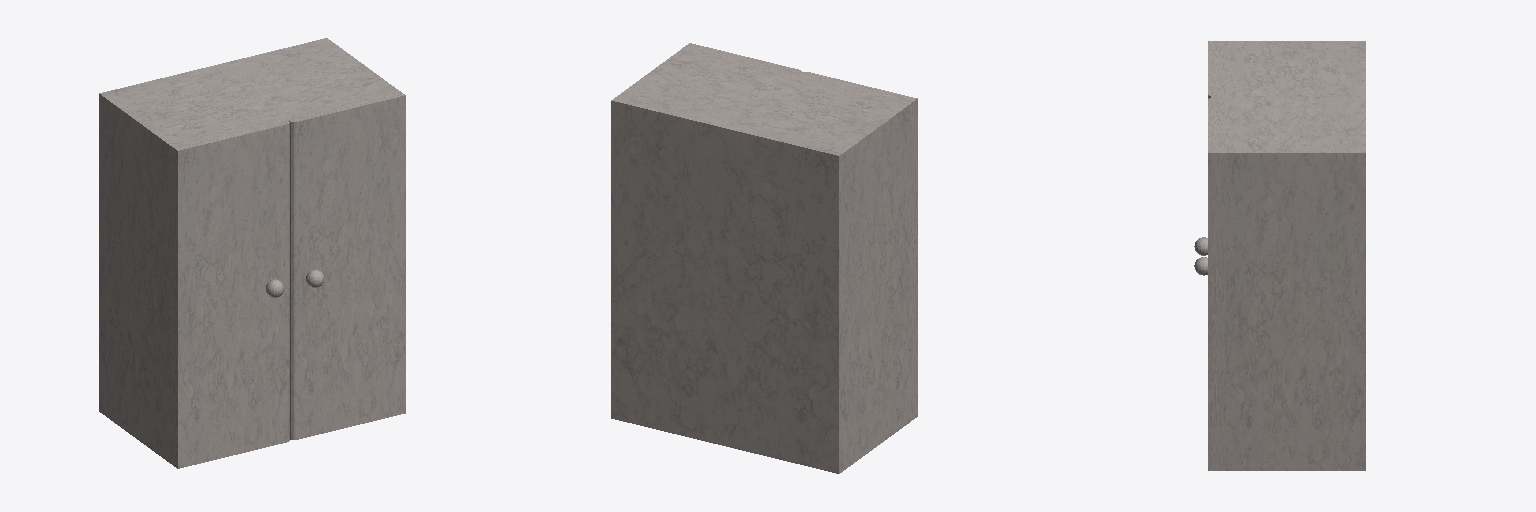
3 views of the same model, side by side, from view 1: azimuth 30°, elevation 25°; view 2: azimuth 150°, elevation 25°; view 3: azimuth 270°, elevation 25° (orthographic).
Visible parts, largest first — view 1: pSphere3; view 2: pSphere3; view 3: pSphere3.
Boxes of the visible parts, box(x1,y1,x2,y2) form: pSphere3: box(99, 38, 405, 468); pSphere3: box(611, 43, 917, 473); pSphere3: box(1194, 41, 1365, 470).
Size of the model in its own units: 1.5 by 2 by 0.9752.
1 materials, 1 textured.